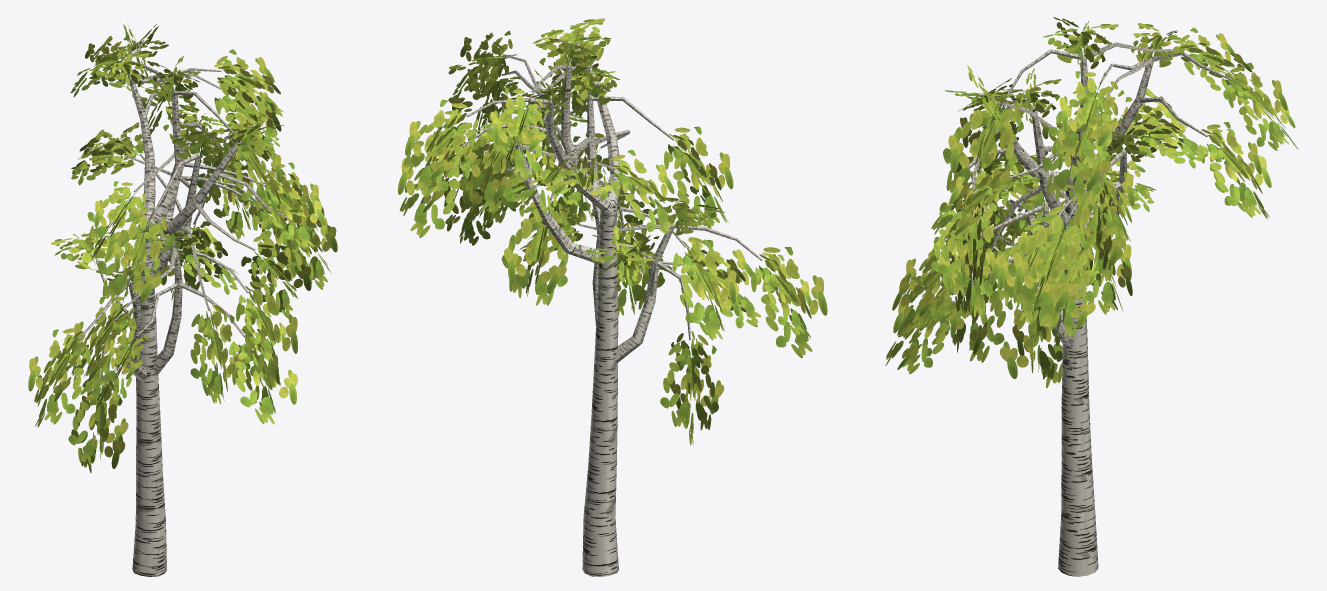
The model's file is SM_Grassland_Birch_A.glb.
3 renders of one model, left to right at view 1: azimuth 30°, elevation 25°; view 2: azimuth 150°, elevation 25°; view 3: azimuth 270°, elevation 25°, orthographic. The views are drawn at different scales.
Parts seen in each view (by area): view 1: SM_Grassland_Birch_A; view 2: SM_Grassland_Birch_A; view 3: SM_Grassland_Birch_A.
Part boxes in pixels (box(x1,y1,x2,y2)): SM_Grassland_Birch_A: box(28, 23, 337, 576); SM_Grassland_Birch_A: box(397, 18, 827, 576); SM_Grassland_Birch_A: box(885, 17, 1298, 576).
Bounding box in the file's own units: 2.86 × 3.9 × 2.78.
Materials: 2 (2 with a texture image).
